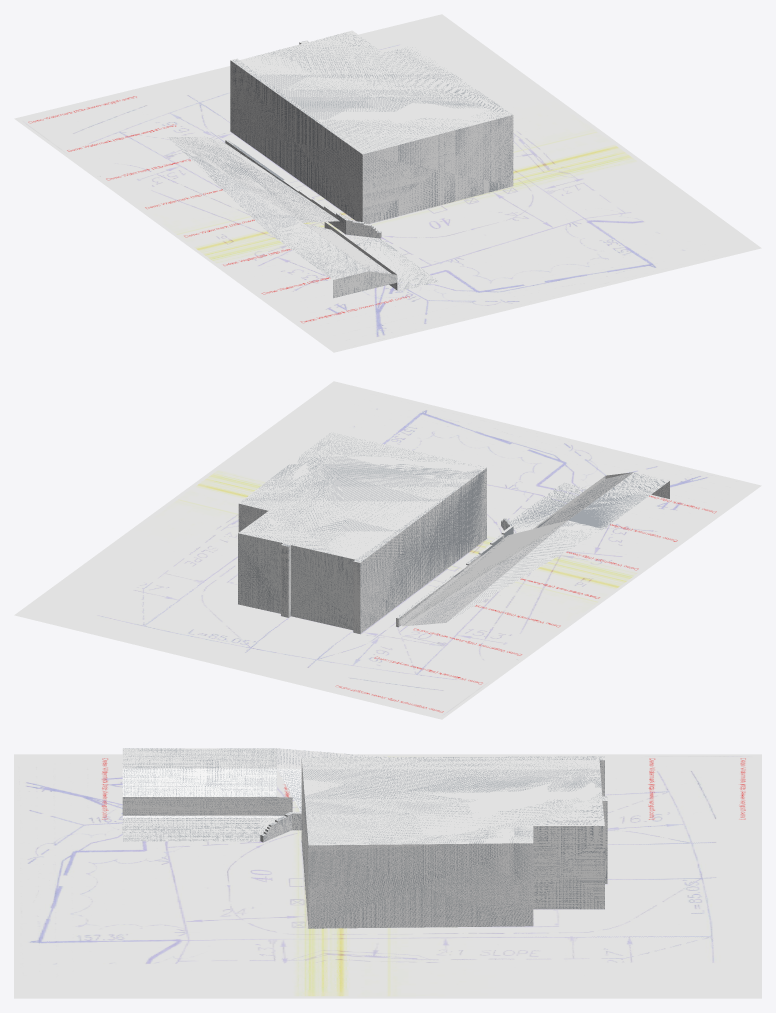
File: Backyard.fbx
The picture shows the model from 3 angles, top to bottom: view 1: azimuth 30°, elevation 25°; view 2: azimuth 150°, elevation 25°; view 3: azimuth 270°, elevation 25°; orthographic projection. The views are drawn at different scales.
Visible parts, largest first — view 1: Model; view 2: Model; view 3: Model.
Boxes of the visible parts, <box> form: Model: <box>14,14,761,352</box>; Model: <box>14,381,761,719</box>; Model: <box>14,748,761,998</box>.
Size of the model in its own units: 1511 by 240 by 1955.
